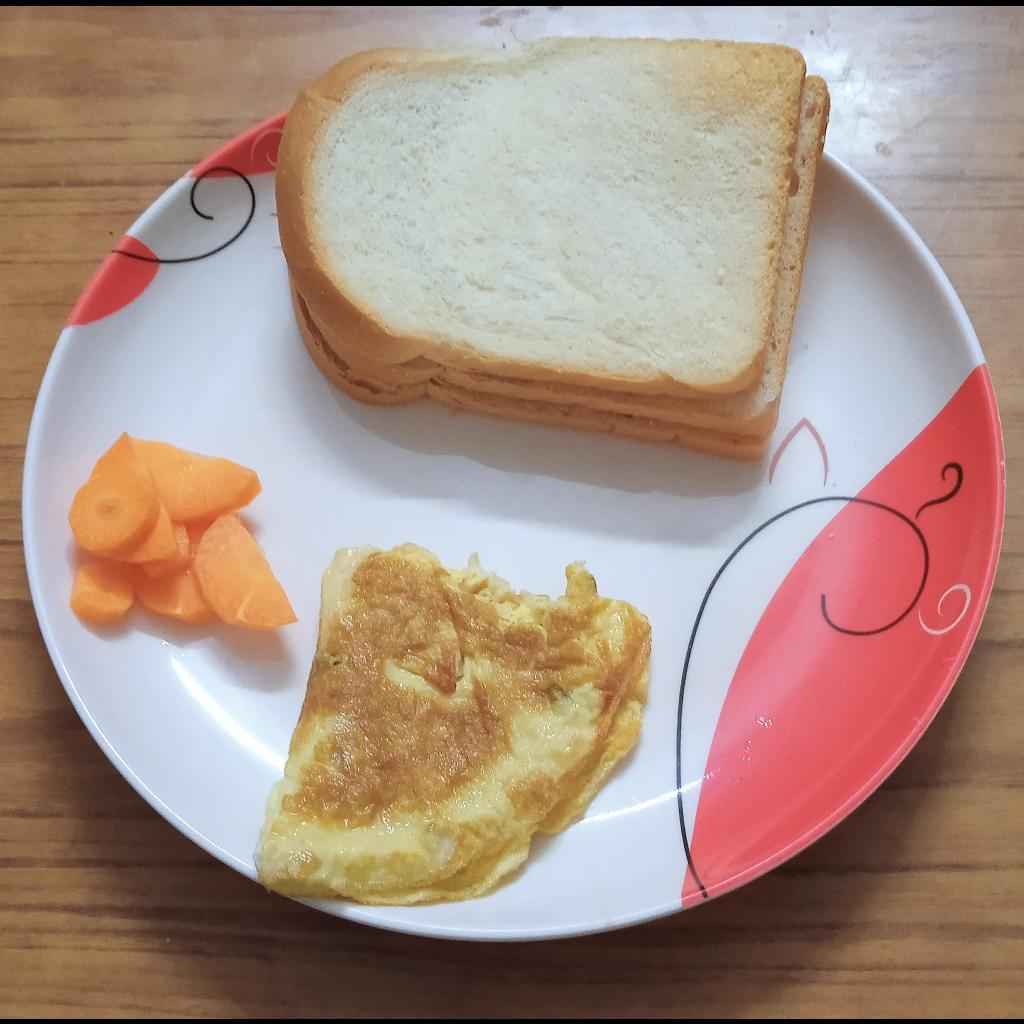bread: (273, 35, 829, 462)
carrot: (66, 432, 300, 629)
egg-poached: (246, 545, 659, 906)
